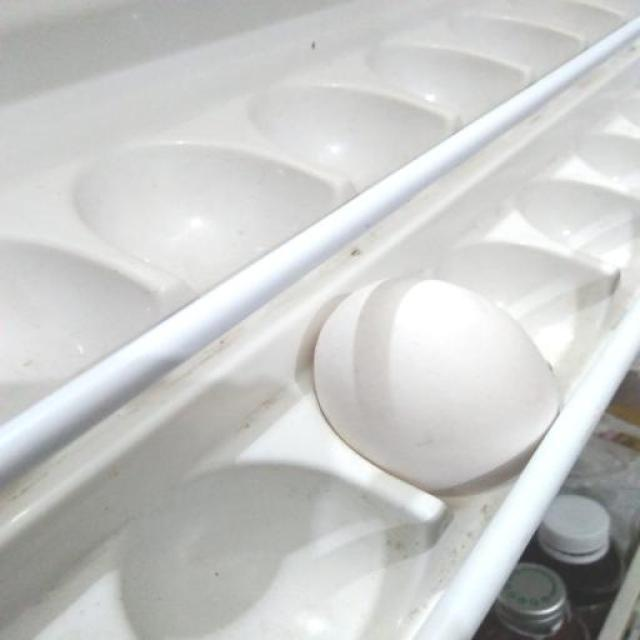telur: (313, 276, 555, 493)
